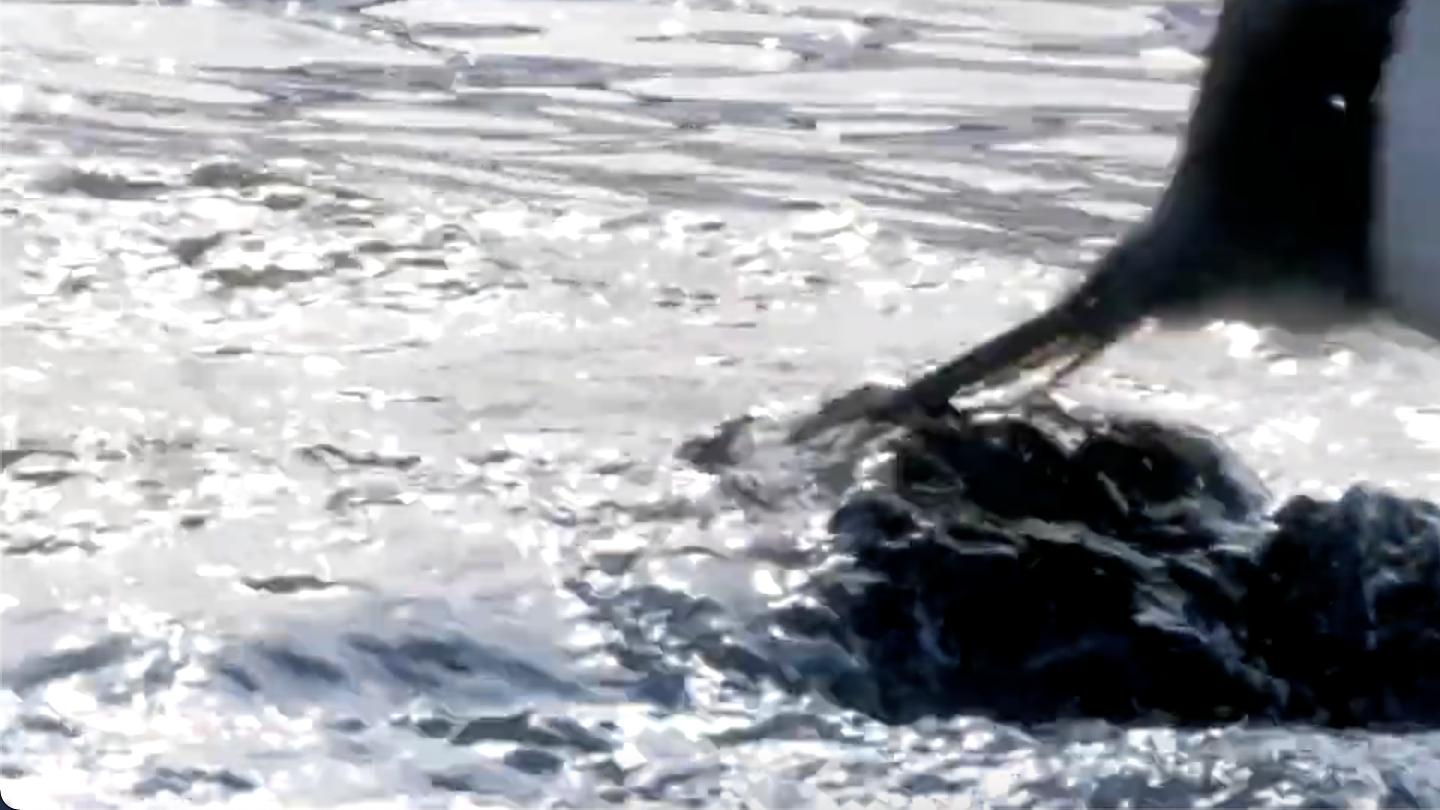Chinstrap Penguin: (982, 0, 1440, 380)
